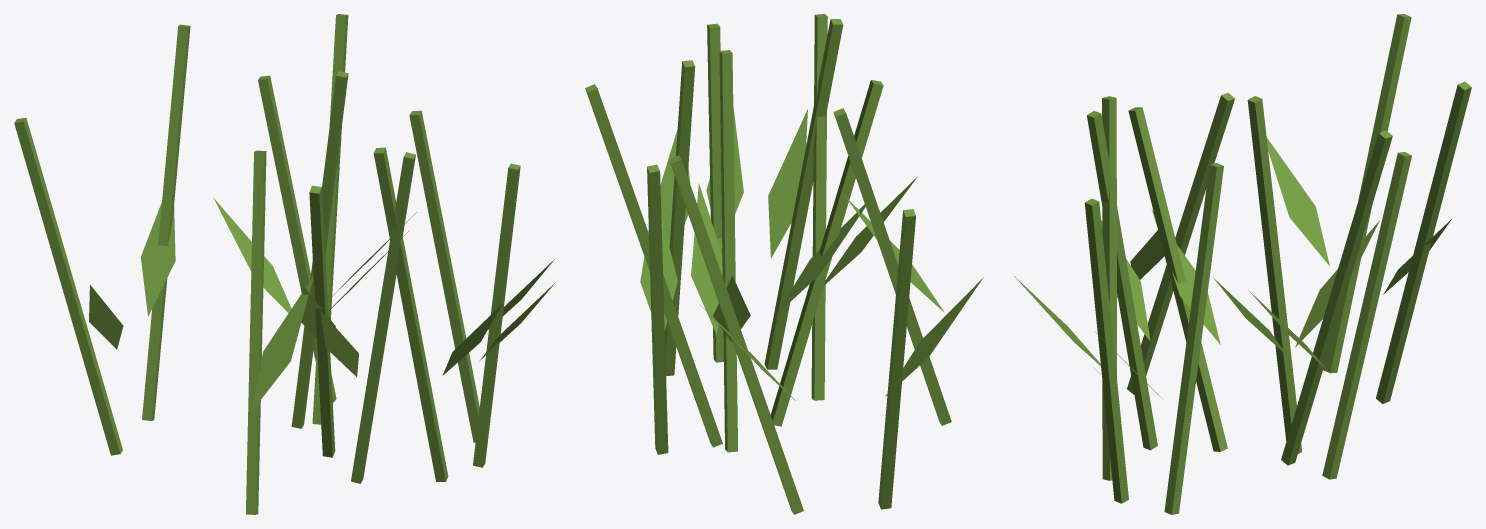
The model's file is barley_s1.glb.
The picture shows the model from 3 angles, left to right: view 1: azimuth 30°, elevation 25°; view 2: azimuth 150°, elevation 25°; view 3: azimuth 270°, elevation 25°; orthographic projection. The views are drawn at different scales.
Visible parts, largest first — view 1: barley; view 2: barley; view 3: barley.
Part boxes in pixels (left/top/right/bottom): barley: left=14, top=14, right=555, bottom=514; barley: left=585, top=14, right=983, bottom=514; barley: left=1014, top=14, right=1471, bottom=514.
Size of the model in its own units: 0.3671 by 0.332 by 0.3762.
